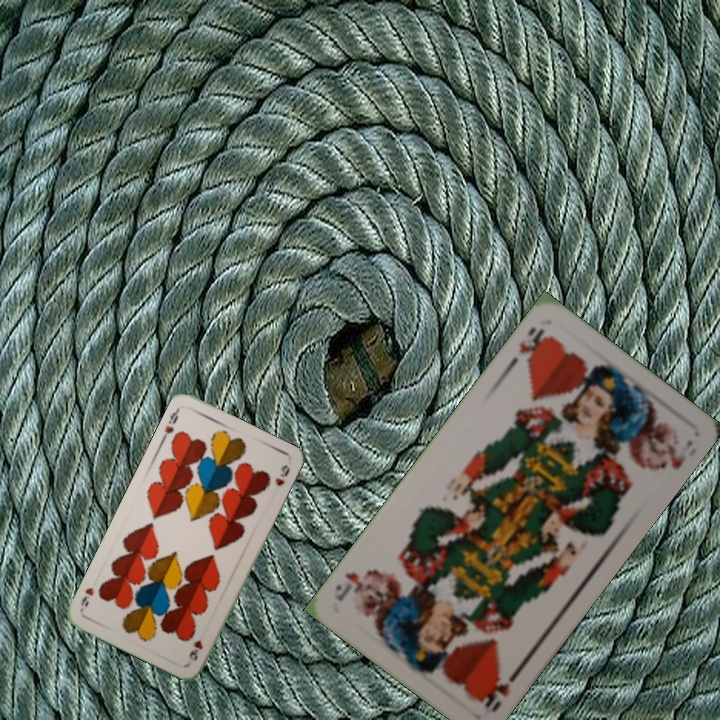H9: (158, 404, 182, 443), (185, 636, 205, 663)
HO: (476, 664, 524, 715), (504, 323, 554, 371)
